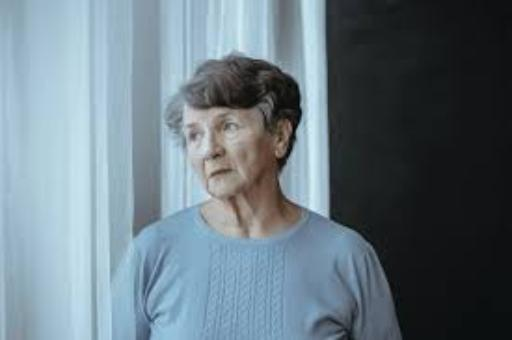left_eye: (221, 122, 241, 133)
left_lip_corner: (230, 167, 238, 175)
right_eye: (188, 130, 203, 142)
right_lip_corner: (204, 173, 217, 181)
